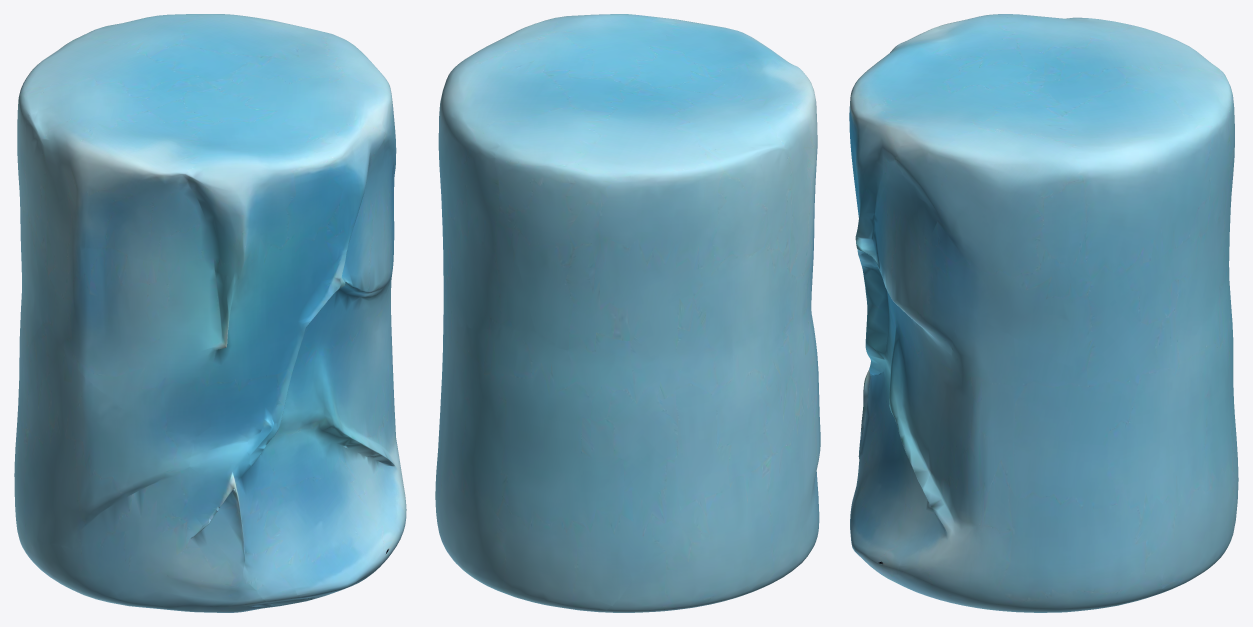
Rendered from buz_silindir_parcali.glb.
The picture shows the model from 3 angles, left to right: view 1: azimuth 30°, elevation 25°; view 2: azimuth 150°, elevation 25°; view 3: azimuth 270°, elevation 25°; orthographic projection.
Parts seen in each view (by area): view 1: p05, p11, p10, p06, p09, p01, p02, p07, p00, p03, p08; view 2: p07, p04, p03, p01, p05, p06, p09, p10; view 3: p01, p00, p11, p04, p05, p07, p08, p02.
Part boxes in pixels (bbox=[...]): p05: bbox=[25, 84, 384, 278]; p11: bbox=[234, 219, 399, 599]; p10: bbox=[29, 214, 323, 438]; p06: bbox=[14, 318, 194, 546]; p09: bbox=[14, 496, 274, 612]; p01: bbox=[163, 14, 396, 227]; p02: bbox=[182, 409, 310, 606]; p07: bbox=[17, 15, 202, 213]; p00: bbox=[367, 273, 406, 546]; p03: bbox=[18, 208, 45, 389]; p08: bbox=[349, 138, 392, 241]; p07: bbox=[494, 85, 769, 349]; p04: bbox=[437, 324, 661, 612]; p03: bbox=[566, 242, 786, 534]; p01: bbox=[438, 14, 632, 330]; p05: bbox=[595, 14, 817, 240]; p06: bbox=[661, 320, 820, 560]; p09: bbox=[600, 472, 819, 612]; p10: bbox=[769, 202, 814, 333]; p01: bbox=[896, 79, 1231, 393]; p00: bbox=[898, 307, 1162, 612]; p11: bbox=[850, 217, 959, 584]; p04: bbox=[1127, 267, 1238, 593]; p05: bbox=[849, 14, 1089, 218]; p07: bbox=[1043, 18, 1234, 246]; p08: bbox=[871, 159, 936, 275]; p02: bbox=[850, 369, 885, 514].
Bounding box in the file's own units: 0.7402 × 0.98 × 0.7452.
2 materials, 1 textured.
